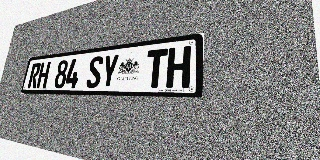4: (64, 58, 81, 88)
8: (53, 59, 69, 88)
H: (166, 46, 191, 88), (36, 62, 51, 88)
R: (27, 63, 41, 88)
S: (85, 56, 104, 88)
T: (144, 48, 168, 88)
Y: (100, 54, 120, 88)
